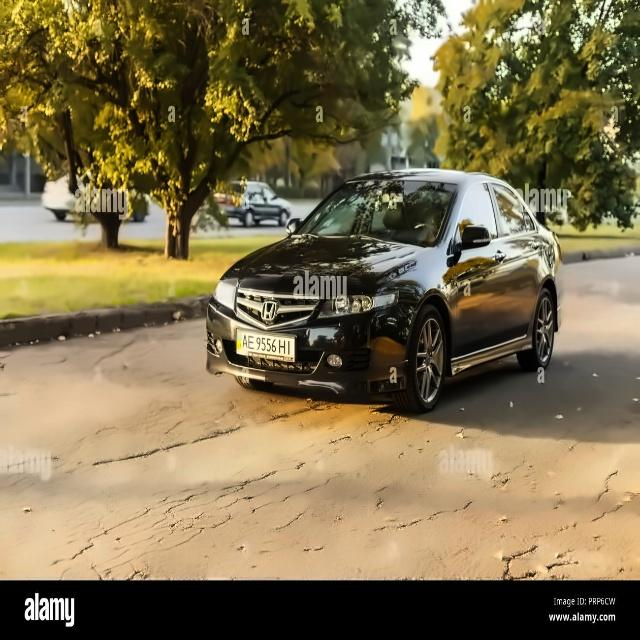Car hood: (214, 237, 441, 306)
Front bumper: (205, 297, 419, 403)
Headlight - -L-: (313, 290, 403, 320)
Headlight - -R-: (205, 277, 244, 319)
Passenger-s door - -F-L-: (439, 172, 507, 385)
Passenger-s door - -R-L-: (485, 173, 541, 371)
Side bumper - -L-: (445, 328, 536, 393)
Side mirror - -L-: (457, 223, 497, 257)
Side mirror - -R-: (282, 218, 306, 237)
